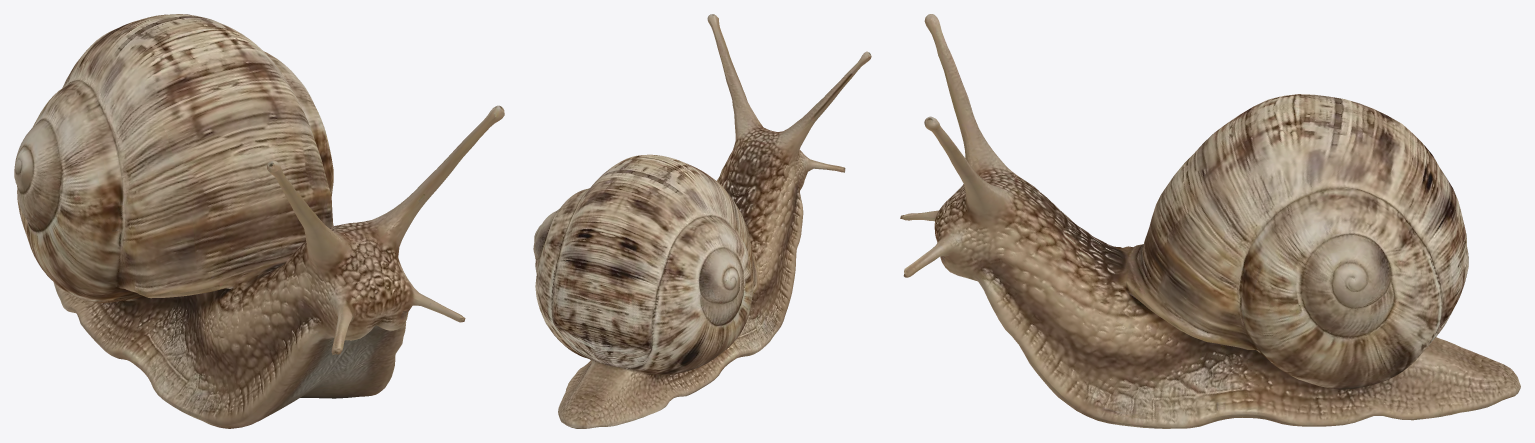
Rendered from snail.glb.
3 views of the same model, side by side, from view 1: azimuth 30°, elevation 25°; view 2: azimuth 150°, elevation 25°; view 3: azimuth 270°, elevation 25° (orthographic). The views are drawn at different scales.
Visible parts, largest first — view 1: Mesh0; view 2: Mesh0; view 3: Mesh0.
Boxes of the visible parts, left/top/right/bottom form: Mesh0: left=14, top=14, right=504, bottom=428; Mesh0: left=533, top=14, right=871, bottom=428; Mesh0: left=900, top=14, right=1520, bottom=428.
Size of the model in its own units: 0.9629 by 1.11 by 1.9.
Materials: 1 (1 with a texture image).
